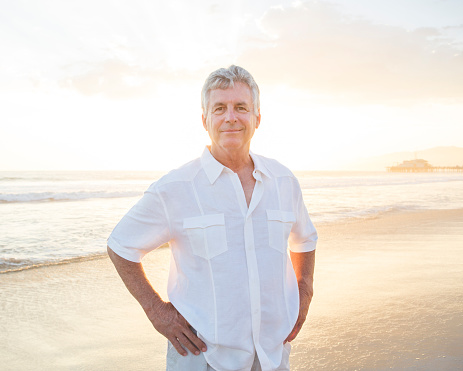em pe: (99, 54, 325, 371)
